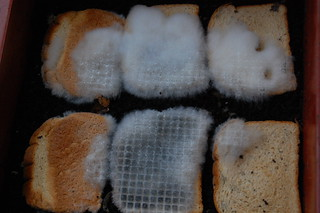mold_bread: (114, 106, 210, 213), (125, 4, 208, 95), (212, 23, 292, 99), (74, 27, 120, 94), (214, 114, 263, 163), (87, 111, 110, 188), (44, 24, 67, 74), (48, 82, 95, 104), (62, 108, 76, 123)
